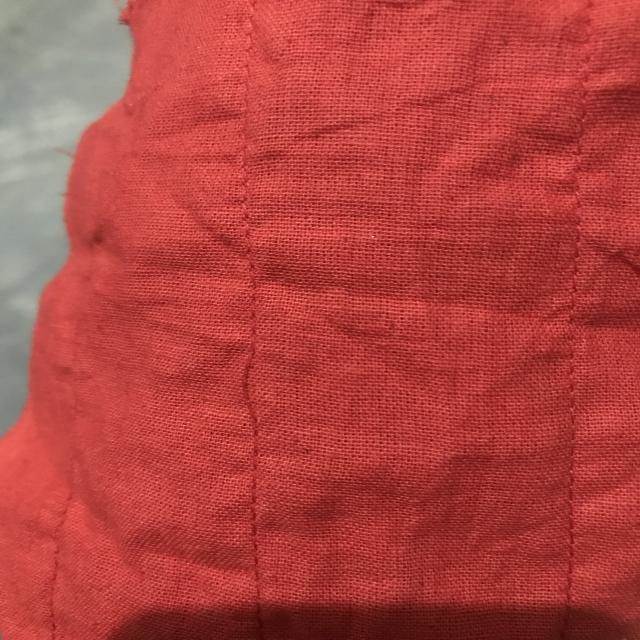good: (558, 340, 596, 518)
skip: (218, 322, 270, 445)
